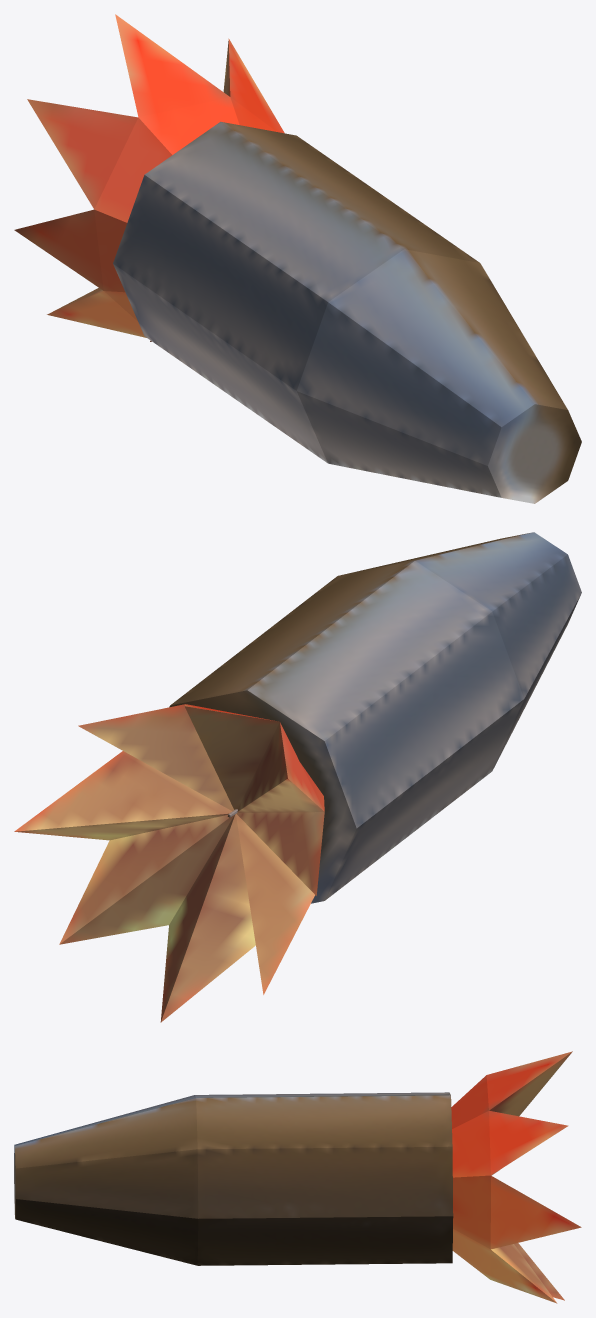
3 views of the same model, one above another, from view 1: azimuth 30°, elevation 25°; view 2: azimuth 150°, elevation 25°; view 3: azimuth 270°, elevation 25° (orthographic). The views are drawn at different scales.
Parts seen in each view (by area): view 1: Bala_Cylinder.003, Fogonazo_Cylinder.004; view 2: Bala_Cylinder.003, Fogonazo_Cylinder.004; view 3: Bala_Cylinder.003, Fogonazo_Cylinder.004.
Part boxes in pixels (box(x1,y1,x2,y2)): Bala_Cylinder.003: box(113, 121, 581, 503); Fogonazo_Cylinder.004: box(14, 14, 284, 341); Bala_Cylinder.003: box(169, 532, 581, 903); Fogonazo_Cylinder.004: box(14, 704, 324, 1022); Bala_Cylinder.003: box(14, 1092, 453, 1265); Fogonazo_Cylinder.004: box(451, 1051, 581, 1303).
Size of the model in its own units: 0.3644 by 0.4069 by 0.8762.
